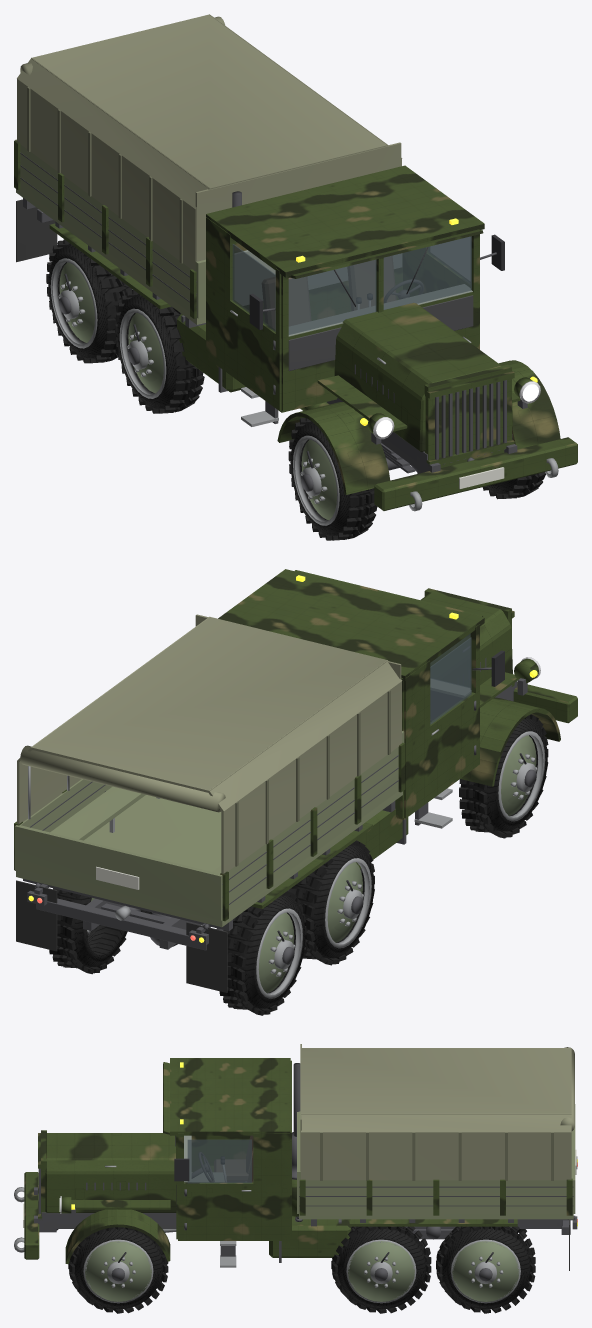
File: ural.glb
3 views of the same model, one above another, from view 1: azimuth 30°, elevation 25°; view 2: azimuth 150°, elevation 25°; view 3: azimuth 270°, elevation 25° (orthographic). The views are drawn at different scales.
Parts seen in each view (by area): view 1: URAL_body_geo, wheel_3_geo, wheel_5_geo, wheel_1_geo, wheel_0_geo; view 2: URAL_body_geo, wheel_5_geo, wheel_3_geo, wheel_1_geo, wheel_4_geo; view 3: URAL_body_geo, wheel_4_geo, wheel_2_geo, wheel_0_geo.
Part boxes in pixels (bbox=[...]): URAL_body_geo: bbox=[14, 14, 577, 511]; wheel_3_geo: bbox=[115, 290, 204, 413]; wheel_5_geo: bbox=[46, 239, 132, 363]; wheel_1_geo: bbox=[288, 418, 377, 540]; wheel_0_geo: bbox=[482, 438, 545, 499]; URAL_body_geo: bbox=[14, 569, 577, 992]; wheel_5_geo: bbox=[219, 891, 306, 1015]; wheel_3_geo: bbox=[288, 840, 374, 965]; wheel_1_geo: bbox=[459, 714, 548, 838]; wheel_4_geo: bbox=[49, 888, 127, 974]; URAL_body_geo: bbox=[14, 1044, 577, 1270]; wheel_4_geo: bbox=[436, 1226, 535, 1313]; wheel_2_geo: bbox=[331, 1226, 431, 1313]; wheel_0_geo: bbox=[68, 1227, 168, 1313].
Size of the model in its own units: 2.88 by 2.9 by 7.56.
22 materials, 2 textured.
